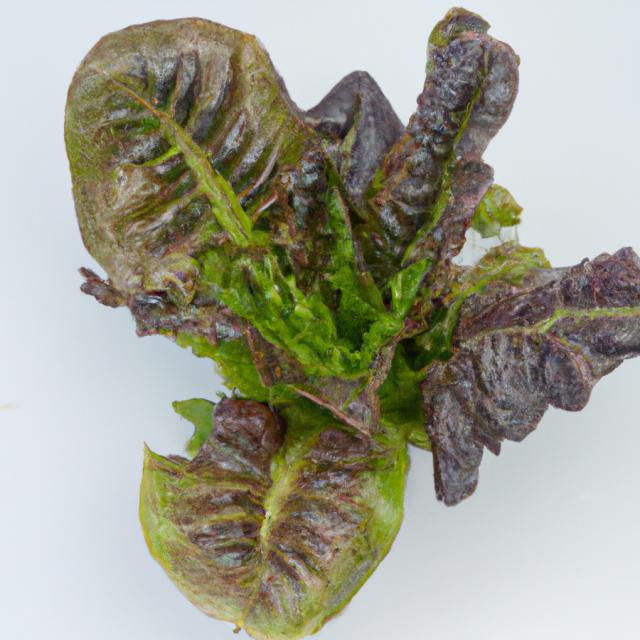-P: (51, 1, 639, 640)
